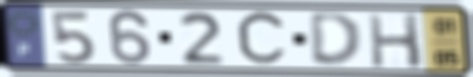2: (176, 10, 227, 66)
5: (48, 8, 100, 65)
6: (106, 8, 153, 67)
C: (233, 8, 290, 70)
D: (306, 11, 365, 69)
H: (365, 12, 426, 71)
